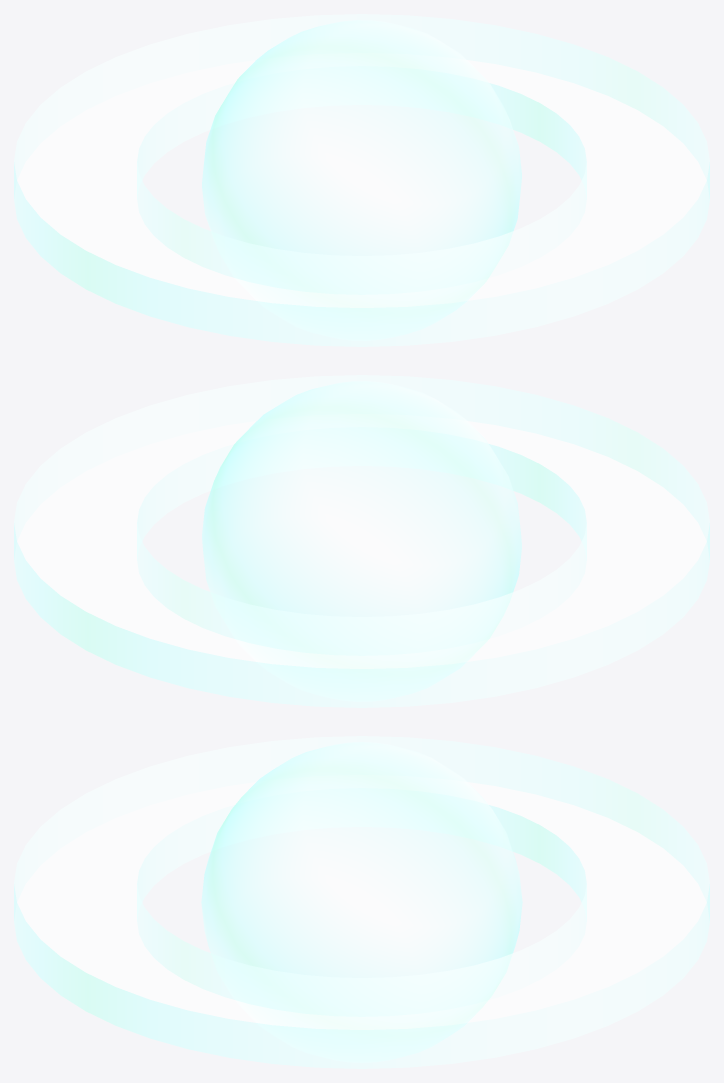
Rendered from item-6-13.glb.
3 renders of one model, top to bottom at view 1: azimuth 30°, elevation 25°; view 2: azimuth 150°, elevation 25°; view 3: azimuth 270°, elevation 25°, orthographic.
Visible parts, largest first — view 1: plat; view 2: plat; view 3: plat.
Boxes of the visible parts, x1,y1,x2,y2 form: plat: (14,14,709,346); plat: (14,375,709,707); plat: (14,736,709,1068).
Size of the model in its own units: 1.3 by 0.6 by 1.3.
